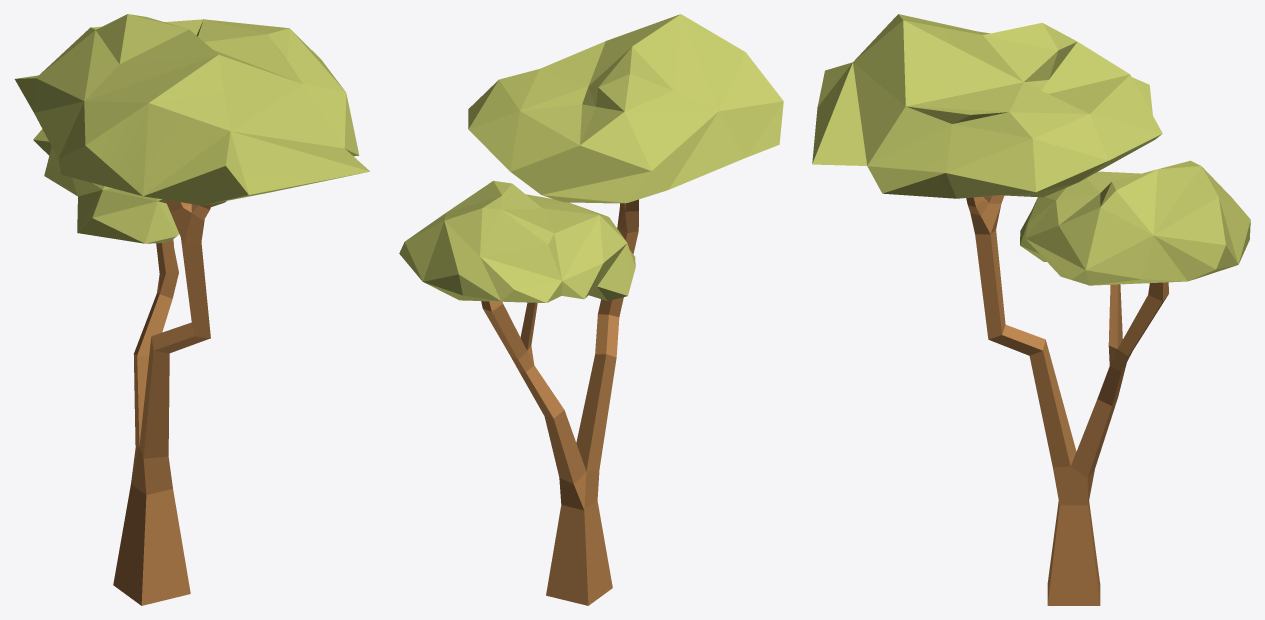
Rendered from tree3.glb.
3 views of the same model, side by side, from view 1: azimuth 30°, elevation 25°; view 2: azimuth 150°, elevation 25°; view 3: azimuth 270°, elevation 25° (orthographic). The views are drawn at different scales.
Visible parts, largest first — view 1: SavannahTree_05; view 2: SavannahTree_05; view 3: SavannahTree_05.
Part boxes in pixels (<box>): SavannahTree_05: <box>14,14,369,605</box>; SavannahTree_05: <box>399,14,783,605</box>; SavannahTree_05: <box>812,14,1250,605</box>.
Size of the model in its own units: 11.81 by 22.1 by 15.6.
